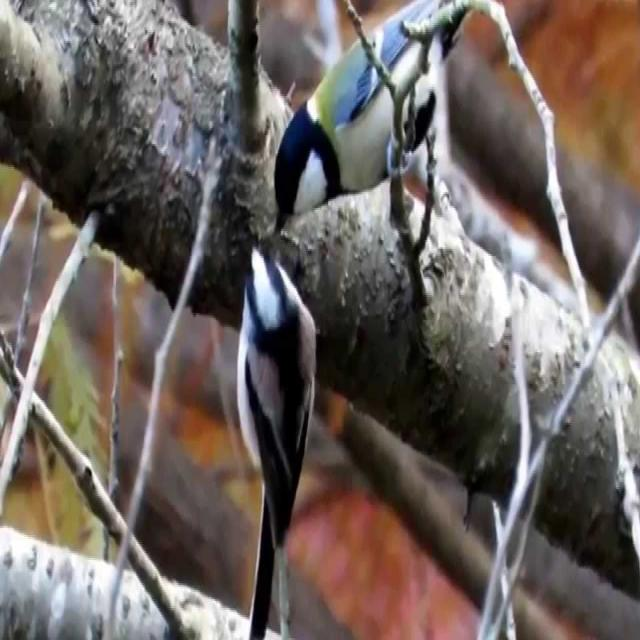bird: (265, 2, 467, 224), (232, 245, 319, 639)
